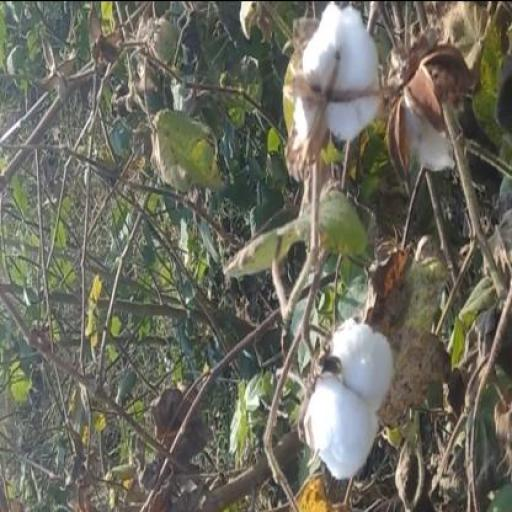cotton_ready: (283, 5, 394, 165), (303, 312, 394, 504)
